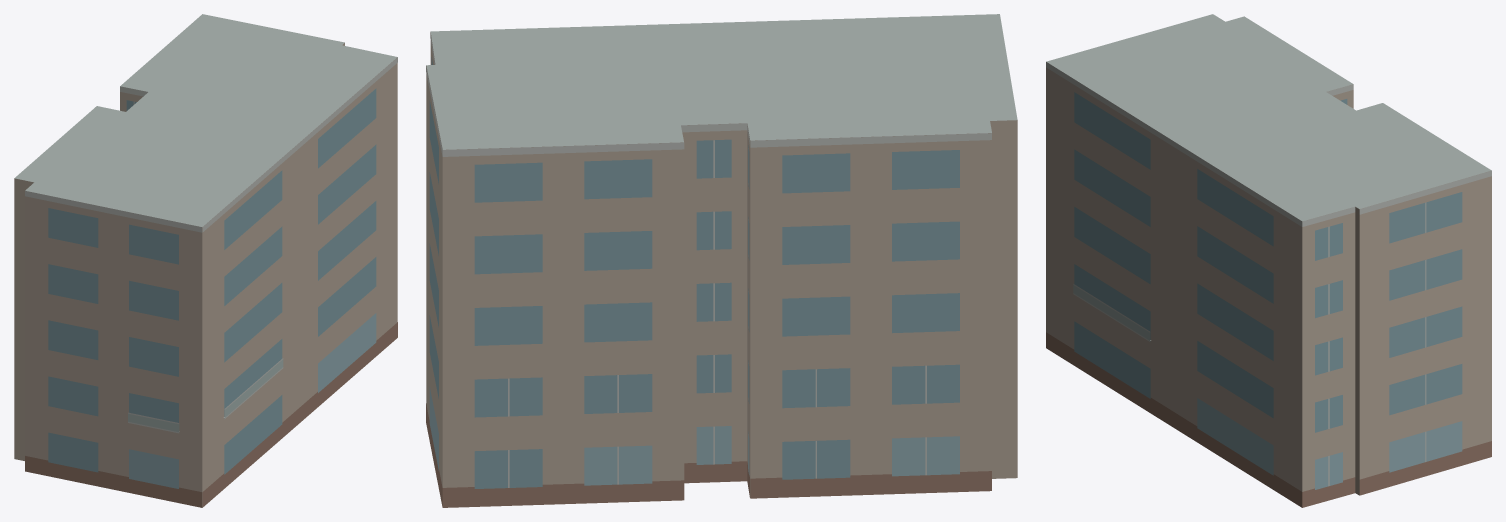
The model's file is survey-upis-33006723.glb.
3 views of the same model, side by side, from view 1: azimuth 30°, elevation 25°; view 2: azimuth 150°, elevation 25°; view 3: azimuth 270°, elevation 25° (orthographic). The views are drawn at different scales.
Visible parts, largest first — view 1: survey-upis-33006723.tmp; view 2: survey-upis-33006723.tmp; view 3: survey-upis-33006723.tmp.
Boxes of the visible parts, bbox=[...] form: survey-upis-33006723.tmp: bbox=[14, 14, 397, 507]; survey-upis-33006723.tmp: bbox=[426, 14, 1017, 507]; survey-upis-33006723.tmp: bbox=[1046, 14, 1491, 507].
Bounding box in the file's own units: 19.11 × 12.3 × 17.35.
